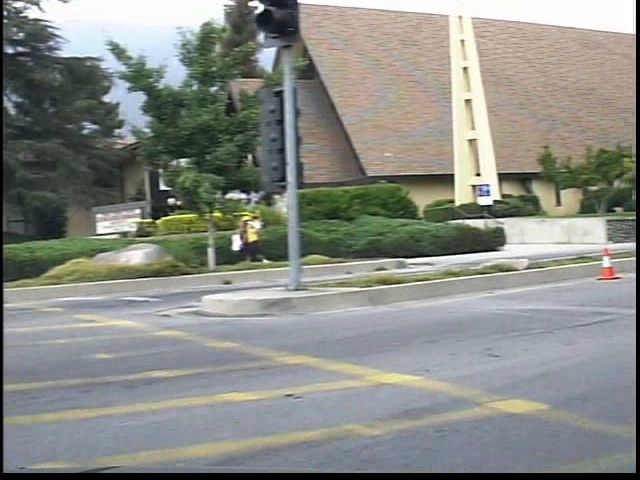person: (249, 209, 284, 268)
